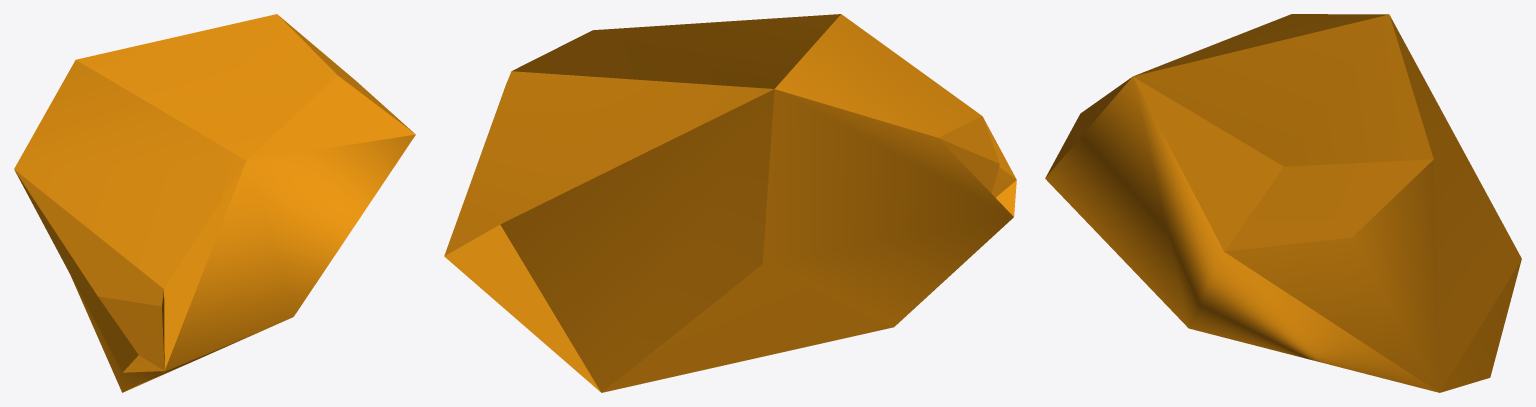
File: pepiteAmbre.fbx
3 views of the same model, side by side, from view 1: azimuth 30°, elevation 25°; view 2: azimuth 150°, elevation 25°; view 3: azimuth 270°, elevation 25° (orthographic). The views are drawn at different scales.
Parts seen in each view (by area): view 1: pépiteD'ambre; view 2: pépiteD'ambre; view 3: pépiteD'ambre.
Part boxes in pixels (<box>): pépiteD'ambre: <box>14,14,415,392</box>; pépiteD'ambre: <box>444,14,1016,392</box>; pépiteD'ambre: <box>1045,14,1521,392</box>.
Bounding box in the file's own units: 18.51 × 12.51 × 17.89.
